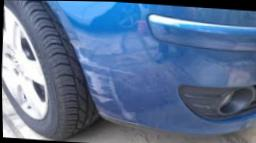Bumper: (74, 49, 140, 125)
